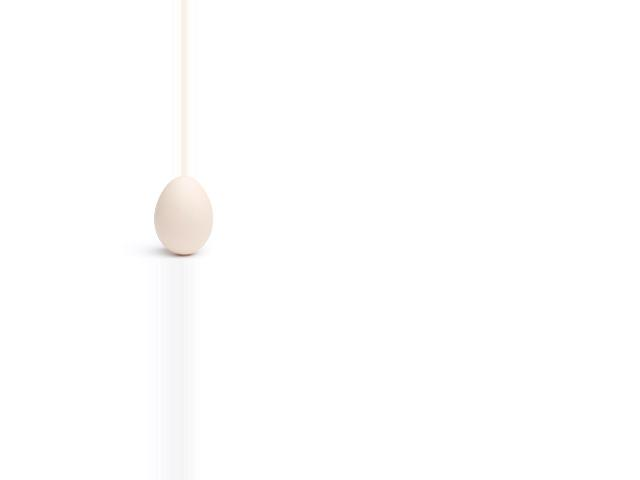egg: (154, 176, 212, 255)
